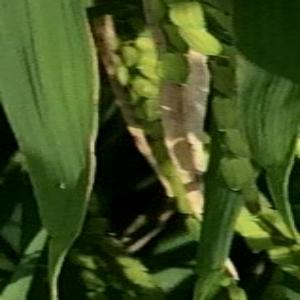2 BacterialBlight: (12, 13, 99, 197)
